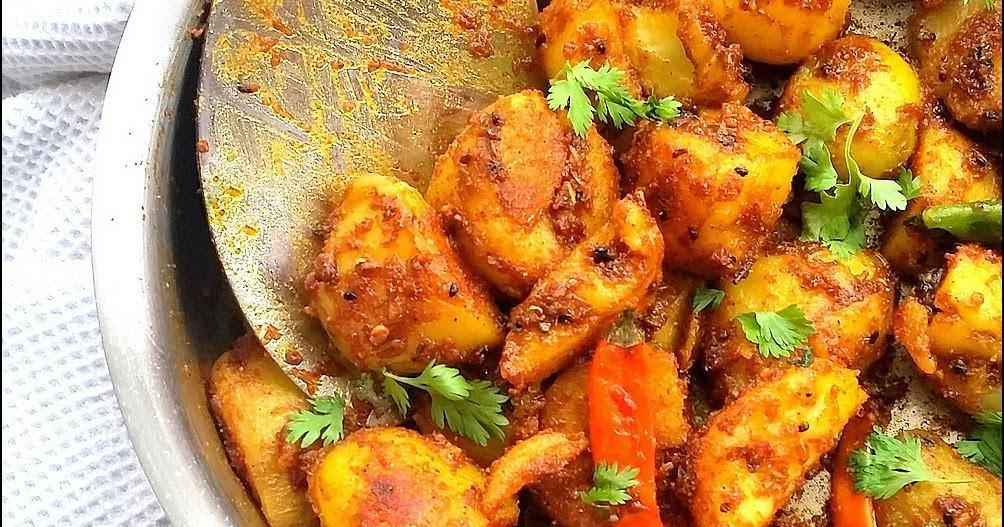AlooMasala: (205, 0, 1004, 527)
